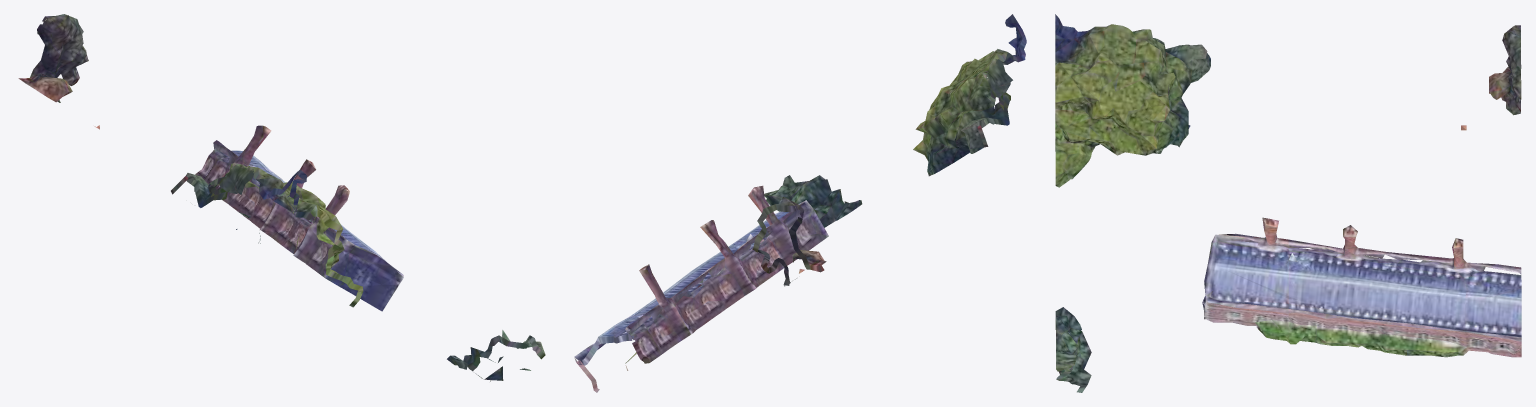
Rendered from AJVsH2xlH-Xhx7kV_6l0nZFY1nxW2tpG2LO-URTUK9S7y2D-MJdFa-9vDRT3MvKP1dy_ilX6aN-8KXWzoTUN1F5fzTRSLQ_q_uA9EhOer8zTL2MXiiAmty2Y8MJjUqrYhHEwhnxJfosLxEq4GfEVsGnx0EeeoVFsIry6Lk2_QvuBpoHfer4YCwLygwETVd760g.glb.
3 renders of one model, left to right at view 1: azimuth 30°, elevation 25°; view 2: azimuth 150°, elevation 25°; view 3: azimuth 270°, elevation 25°, orthographic. The views are drawn at different scales.
Bounding box in the file's own units: 34.01 × 30.72 × 47.01.
1 material, 1 textured.
